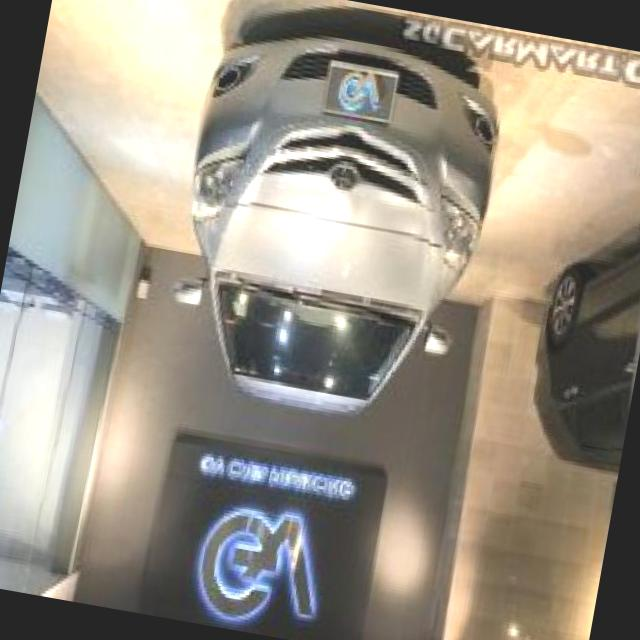ToyotaVios: (152, 11, 516, 440)
